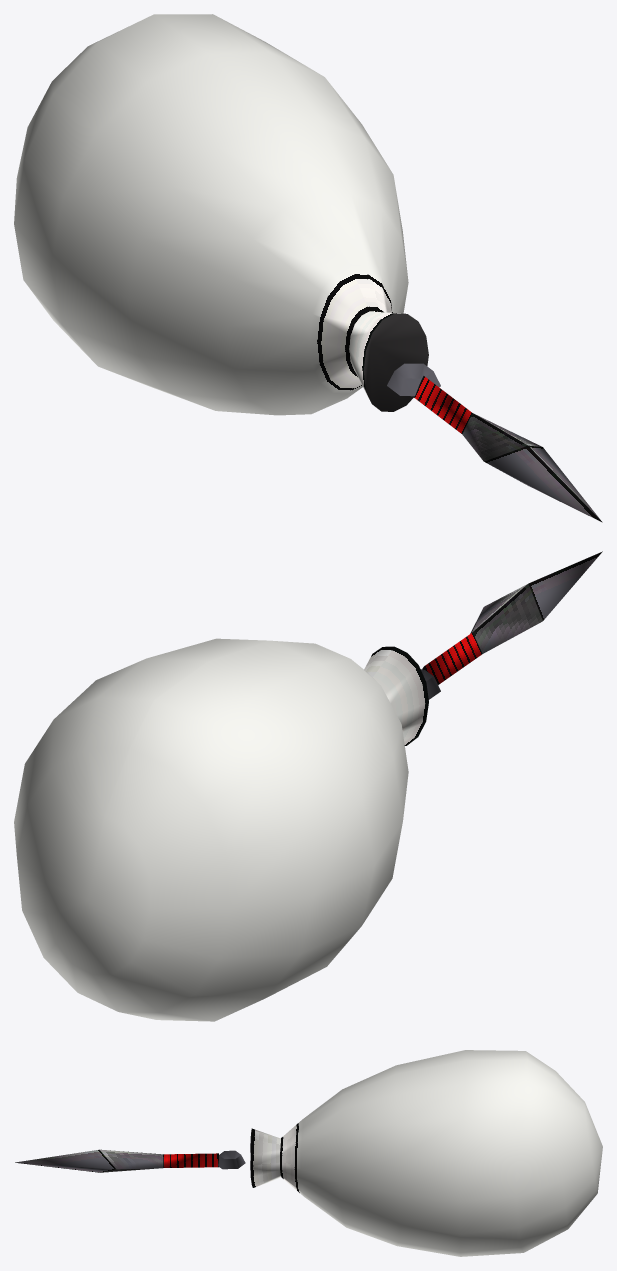
Rendered from kunai_bomb_2_base.fbx.
3 views of the same model, one above another, from view 1: azimuth 30°, elevation 25°; view 2: azimuth 150°, elevation 25°; view 3: azimuth 270°, elevation 25° (orthographic). The views are drawn at different scales.
Visible parts, largest first — view 1: MilkshapeExported1, MilkshapeExported2; view 2: MilkshapeExported1, MilkshapeExported2; view 3: MilkshapeExported1, MilkshapeExported2.
Part boxes in pixels (x1,y1,x2,y2): MilkshapeExported1: (14,14,428,415); MilkshapeExported2: (387,363,602,522); MilkshapeExported1: (14,638,428,1021); MilkshapeExported2: (421,551,602,699); MilkshapeExported1: (250,1050,602,1256); MilkshapeExported2: (15,1149,245,1172).
Size of the model in its own units: 29.45 by 28.4 by 81.14.
Materials: 2 (2 with a texture image).
